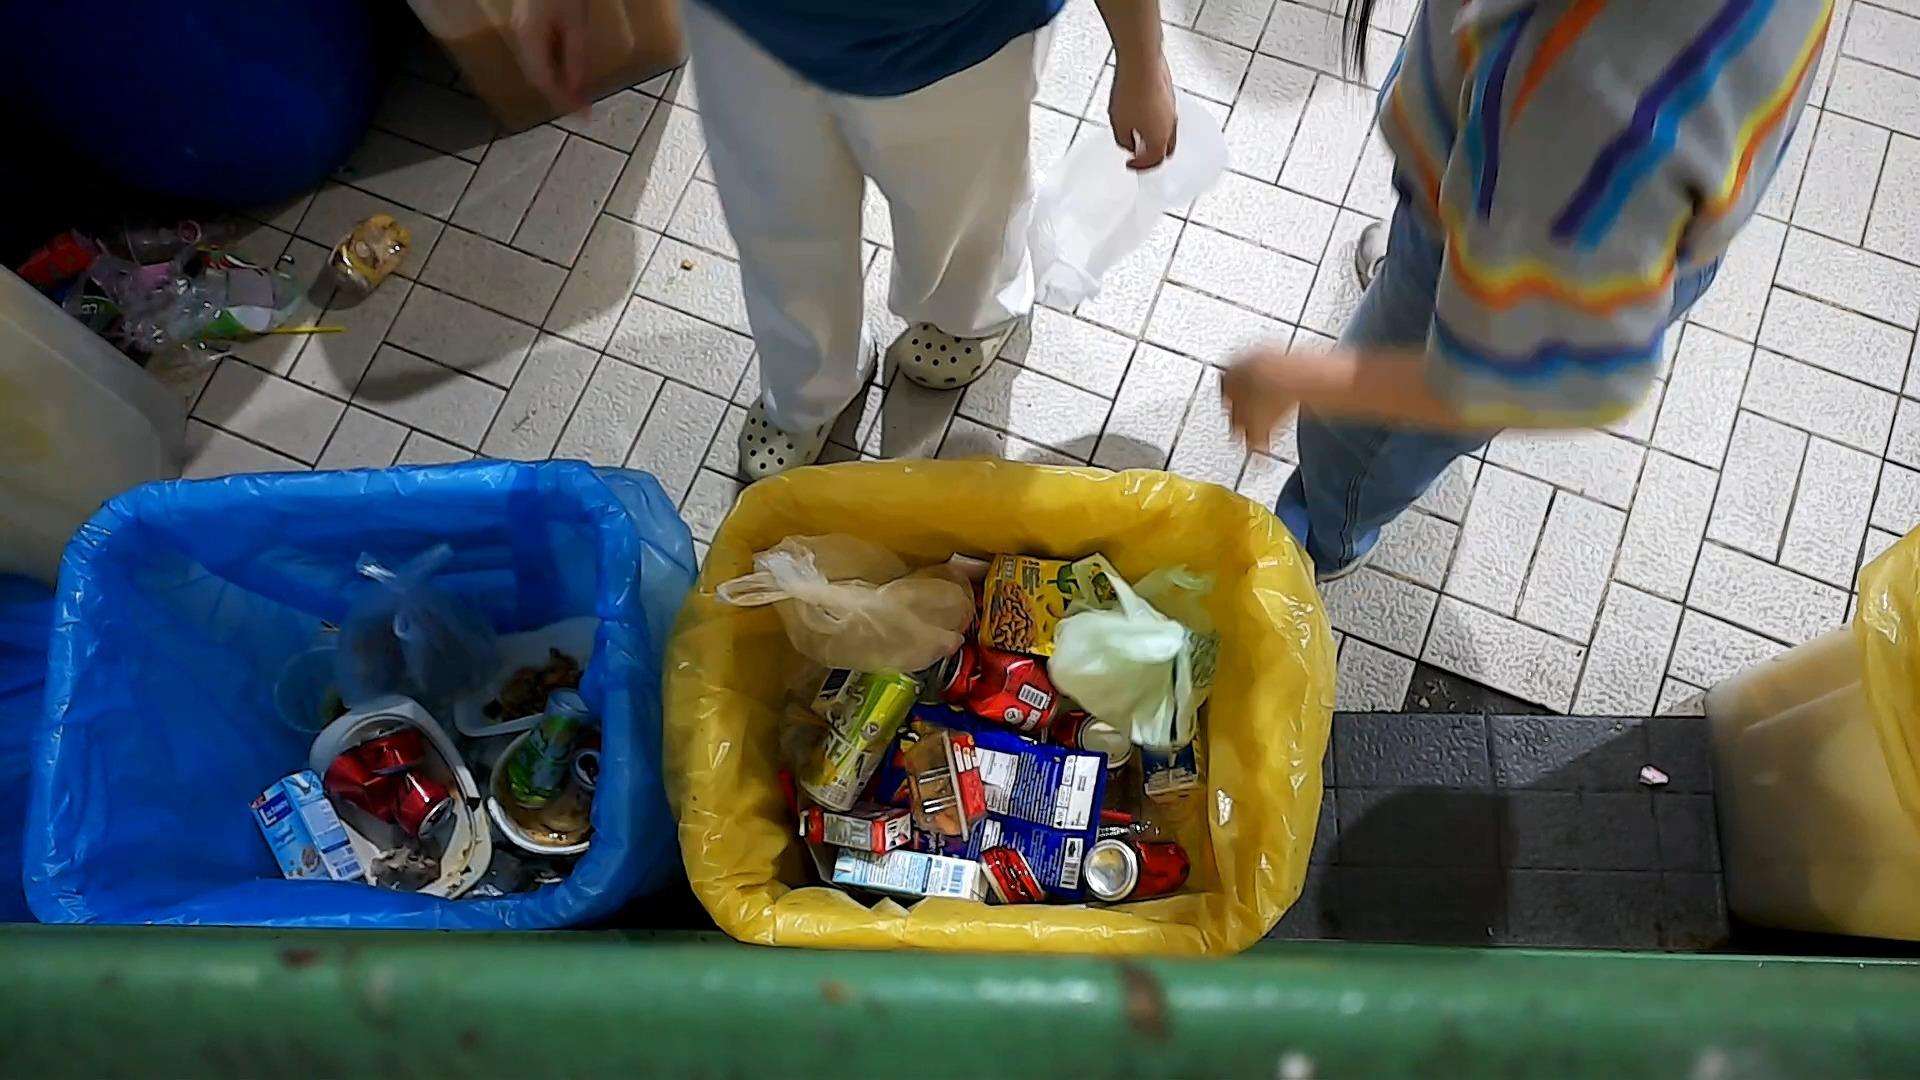can: (794, 667, 922, 811), (336, 733, 462, 847), (944, 649, 1067, 742), (509, 684, 593, 812), (1081, 831, 1195, 899), (972, 844, 1048, 905), (363, 719, 430, 781)
dirty food container: (305, 713, 487, 897), (447, 615, 597, 736), (481, 721, 604, 856), (894, 702, 988, 818)
filled plastic bag: (741, 516, 975, 658), (331, 538, 505, 709)
milk carton: (244, 769, 365, 882), (828, 845, 988, 905), (795, 798, 914, 858), (1134, 715, 1208, 802)
plastic bag: (1030, 90, 1230, 309), (1051, 550, 1207, 752)
snack packaging: (874, 712, 1100, 903), (981, 554, 1129, 658)
